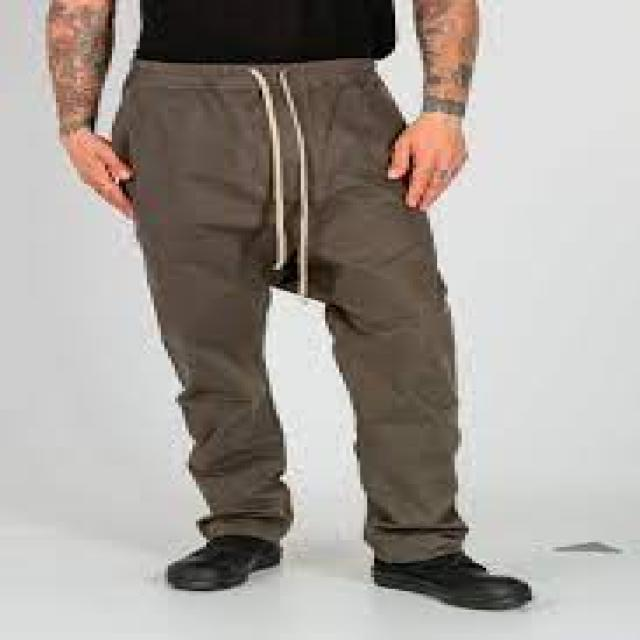pants: (99, 54, 472, 566)
